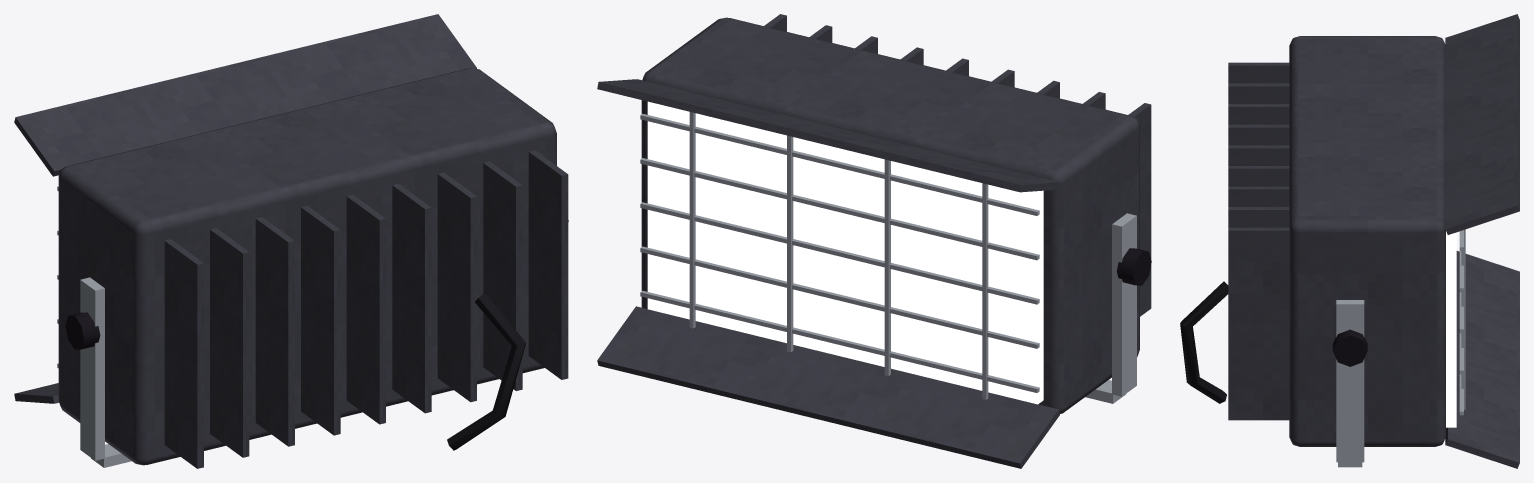
File: s_floodlight.glb
3 views of the same model, side by side, from view 1: azimuth 30°, elevation 25°; view 2: azimuth 150°, elevation 25°; view 3: azimuth 270°, elevation 25° (orthographic). The views are drawn at different scales.
Parts seen in each view (by area): view 1: s_floodlight_mesh; view 2: s_floodlight_mesh; view 3: s_floodlight_mesh.
Boxes of the visible parts, <box> form: s_floodlight_mesh: <box>14,14,568,468</box>; s_floodlight_mesh: <box>597,14,1151,468</box>; s_floodlight_mesh: <box>1180,14,1519,468</box>.
Size of what is drawn, in the model's own units: 1.49 by 0.8342 by 0.9749.
Materials: 5 (5 with a texture image).
